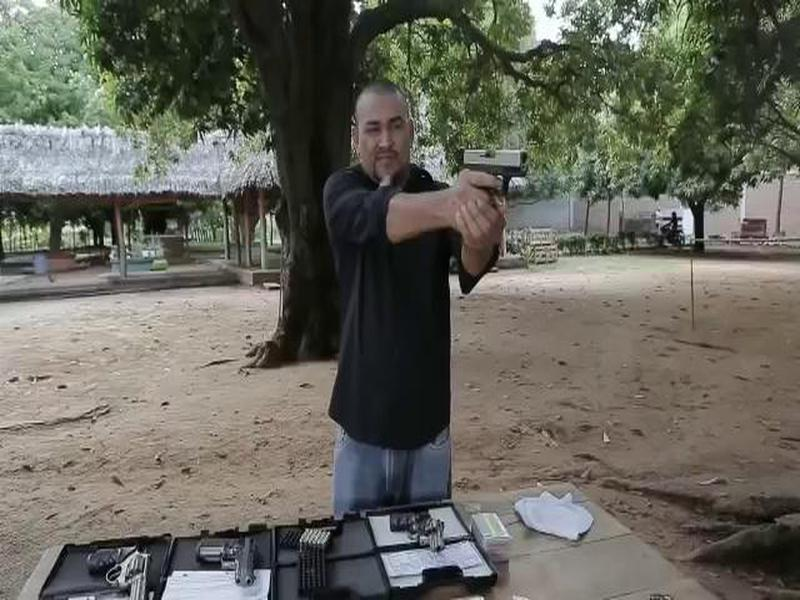Pistola: (193, 524, 266, 595), (457, 144, 534, 211)
